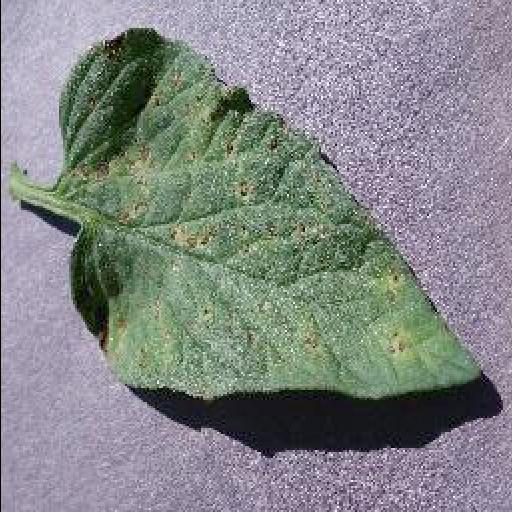disease_tomato: (53, 24, 479, 402)
